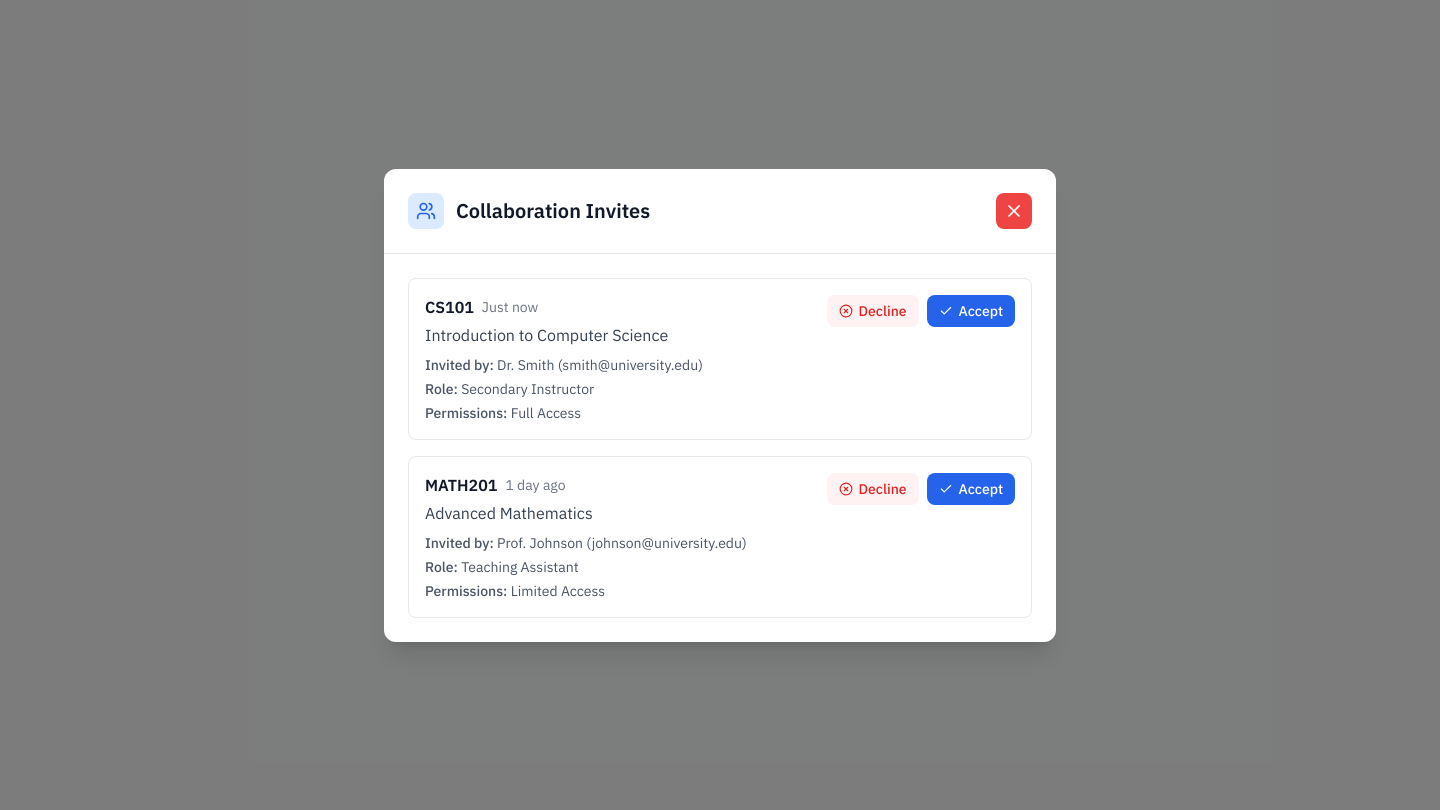
CollaborationInvitesModal › displays error message when decline fails
Click the button "Decline" in the row of "Just now". click: x=872, y=310
box: [826,294,918,326]
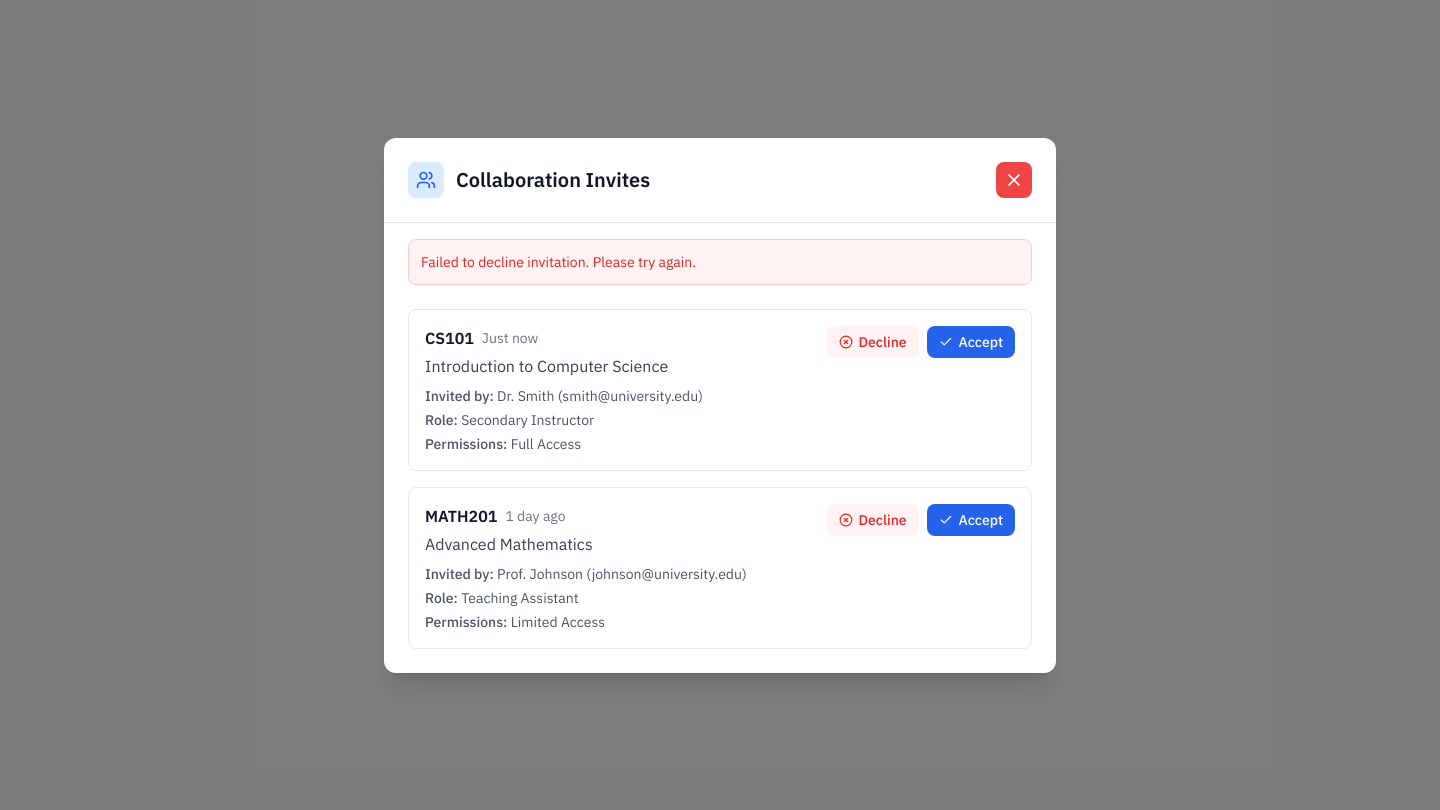
Check: the text "Failed to decline invitation. Please try again." is shown, box [421,252,696,270]
